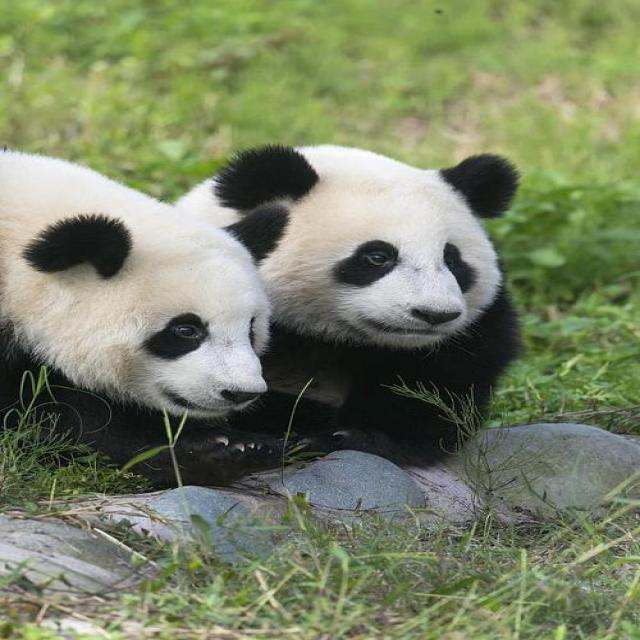panda: (4, 109, 573, 470)
